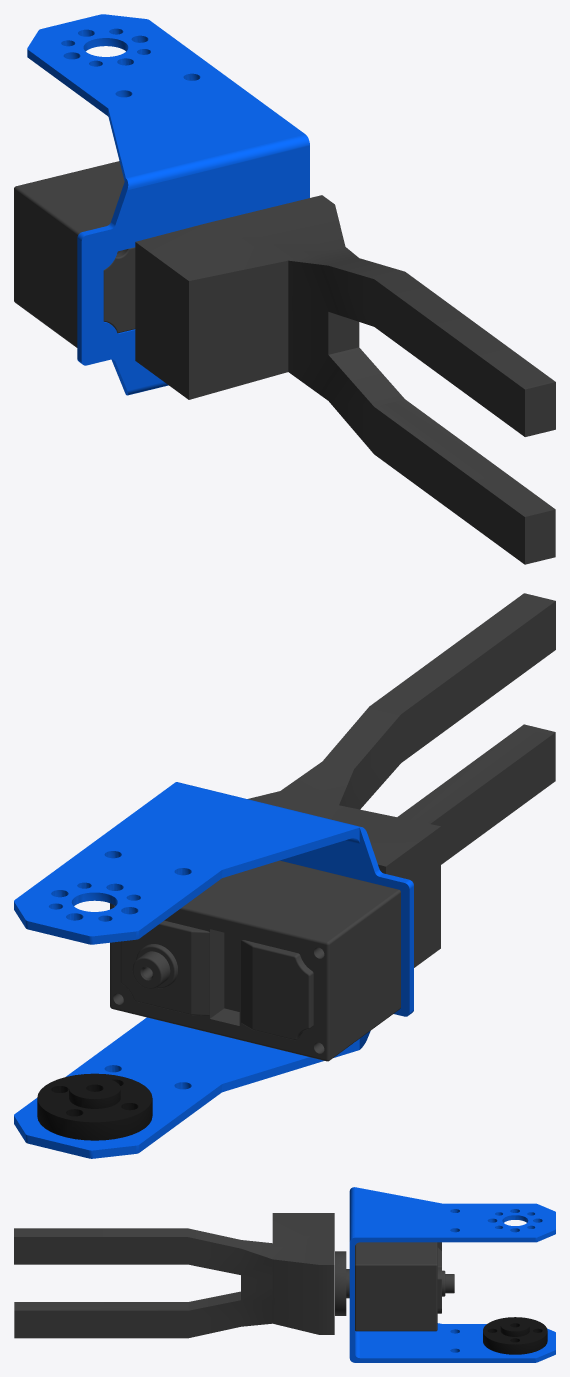
Rendered from xarm-s3.obj.
3 renders of one model, top to bottom at view 1: azimuth 30°, elevation 25°; view 2: azimuth 150°, elevation 25°; view 3: azimuth 270°, elevation 25°, orthographic. The views are drawn at different scales.
Parts seen in each view (by area): view 1: Circumference.002, Servo_3_to_Servo_2, Servo_2; view 2: Servo_3_to_Servo_2, Servo_2, Circumference.002, Circumference.003; view 3: Circumference.002, Servo_3_to_Servo_2, Servo_2, Circumference.003.
Boxes of the visible parts, x1,y1,x2,y2 form: Circumference.002: [135, 195, 555, 564]; Servo_3_to_Servo_2: [27, 14, 309, 395]; Servo_2: [14, 161, 135, 347]; Servo_3_to_Servo_2: [14, 782, 413, 1158]; Servo_2: [110, 860, 400, 1061]; Circumference.002: [247, 593, 555, 967]; Circumference.003: [37, 1073, 152, 1140]; Circumference.002: [14, 1213, 349, 1338]; Servo_3_to_Servo_2: [349, 1187, 555, 1362]; Servo_2: [355, 1242, 454, 1331]; Circumference.003: [483, 1317, 547, 1354].
Size of the model in its own units: 47 by 42.6 by 167.
